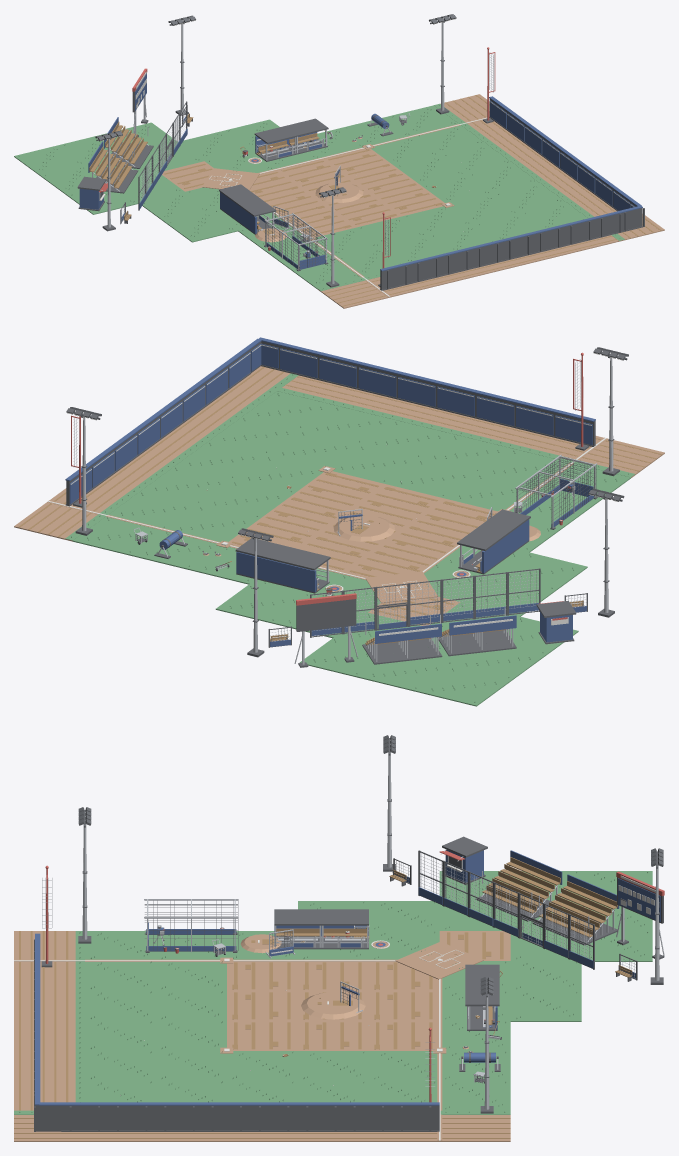
File: baseball-park-and-batting-cages-ball-par-ffc1f6c1-starter-scene__33786.glb
The picture shows the model from 3 angles, top to bottom: view 1: azimuth 30°, elevation 25°; view 2: azimuth 150°, elevation 25°; view 3: azimuth 270°, elevation 25°; orthographic projection. The views are drawn at different scales.
Visible parts, largest first — view 1: 007-outfield-grass-tile/0, 000-outfield-grass-tile/0, 006-outfield-grass-tile/0, 050-outfield-grass-tile/0, 049-outfield-grass-tile/0, 051-outfield-grass-tile/0, 042-outfield-grass-tile/0, 140-batting-cage-frame/0, 044-outfield-grass-tile/0, 037-outfield-grass-tile/0, 017-outfield-grass-tile/0, 043-outfield-grass-tile/0 (+61 smaller); view 2: 000-outfield-grass-tile/0, 052-outfield-grass-tile/0, 030-outfield-grass-tile/0, 049-outfield-grass-tile/0, 050-outfield-grass-tile/0, 038-outfield-grass-tile/0, 031-outfield-grass-tile/0, 042-outfield-grass-tile/0, 045-outfield-grass-tile/0, 051-outfield-grass-tile/0, 044-outfield-grass-tile/0, 037-outfield-grass-tile/0 (+85 smaller); view 3: 130-bleacher-stand/1, 131-bleacher-stand/1, 025-outfield-grass-tile/0, 017-outfield-grass-tile/0, 030-outfield-grass-tile/0, 031-outfield-grass-tile/0, 038-outfield-grass-tile/0, 042-outfield-grass-tile/0, 045-outfield-grass-tile/0, 044-outfield-grass-tile/0, 006-outfield-grass-tile/0, 037-outfield-grass-tile/0 (+67 smaller).
Part boxes in pixels (<box>): 007-outfield-grass-tile/0: <box>165,211,237,242</box>; 000-outfield-grass-tile/0: <box>14,145,85,175</box>; 006-outfield-grass-tile/0: <box>142,192,211,222</box>; 050-outfield-grass-tile/0: <box>468,163,539,193</box>; 049-outfield-grass-tile/0: <box>441,144,512,174</box>; 051-outfield-grass-tile/0: <box>494,183,565,213</box>; 042-outfield-grass-tile/0: <box>395,155,466,185</box>; 140-batting-cage-frame/0: <box>264,215,328,271</box>; 044-outfield-grass-tile/0: <box>451,194,519,224</box>; 037-outfield-grass-tile/0: <box>402,206,473,235</box>; 017-outfield-grass-tile/0: <box>181,130,249,161</box>; 043-outfield-grass-tile/0: <box>422,174,493,203</box>; 000-outfield-grass-tile/0: <box>417,666,510,706</box>; 052-outfield-grass-tile/0: <box>243,391,335,430</box>; 030-outfield-grass-tile/0: <box>386,459,478,498</box>; 049-outfield-grass-tile/0: <box>141,466,233,504</box>; 050-outfield-grass-tile/0: <box>175,441,267,480</box>; 038-outfield-grass-tile/0: <box>361,420,453,458</box>; 031-outfield-grass-tile/0: <box>420,434,512,473</box>; 042-outfield-grass-tile/0: <box>200,480,292,519</box>; 045-outfield-grass-tile/0: <box>302,405,394,444</box>; 051-outfield-grass-tile/0: <box>209,416,301,455</box>; 044-outfield-grass-tile/0: <box>268,430,360,468</box>; 037-outfield-grass-tile/0: <box>331,445,419,483</box>; 130-bleacher-stand/1: <box>482,857,560,913</box>; 131-bleacher-stand/1: <box>539,881,617,937</box>; 025-outfield-grass-tile/0: <box>510,991,581,1021</box>; 017-outfield-grass-tile/0: <box>510,961,581,990</box>; 030-outfield-grass-tile/0: <box>156,991,226,1020</box>; 031-outfield-grass-tile/0: <box>85,991,155,1020</box>; 038-outfield-grass-tile/0: <box>85,1021,155,1050</box>; 042-outfield-grass-tile/0: <box>298,1051,368,1080</box>; 045-outfield-grass-tile/0: <box>85,1051,155,1080</box>; 044-outfield-grass-tile/0: <box>156,1051,226,1080</box>; 006-outfield-grass-tile/0: <box>369,901,439,930</box>; 037-outfield-grass-tile/0: <box>156,1021,226,1050</box>.
Size of the model in its own units: 55.98 by 11.9 by 55.04.
